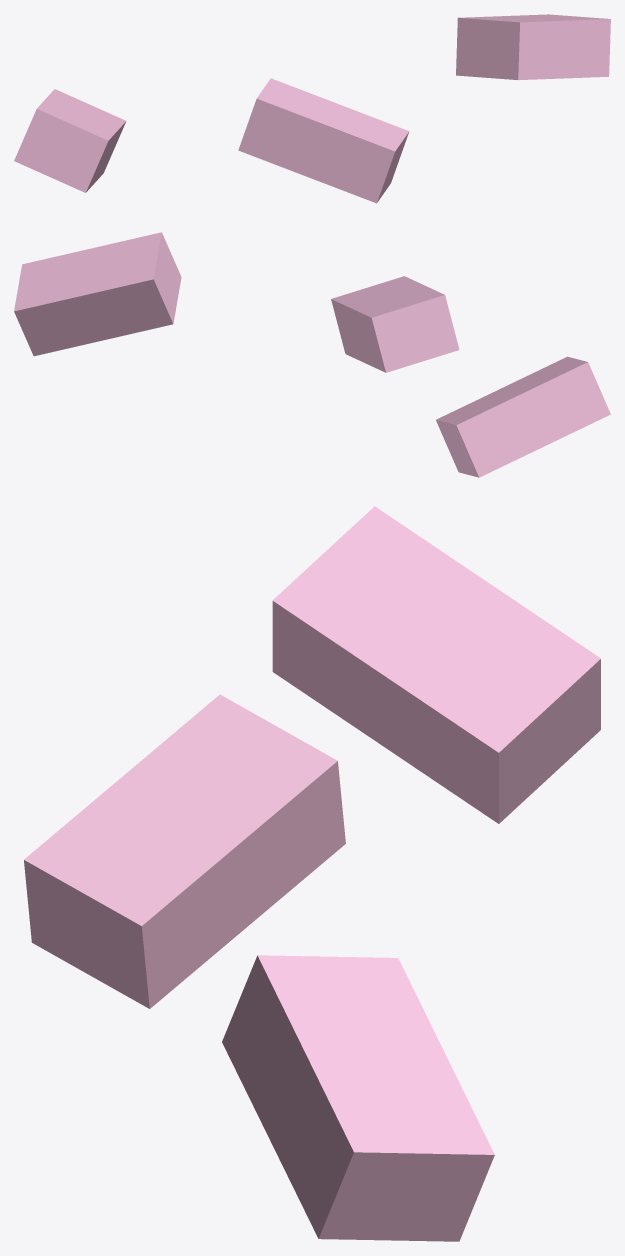
3 views of the same model, one above another, from view 1: azimuth 30°, elevation 25°; view 2: azimuth 150°, elevation 25°; view 3: azimuth 270°, elevation 25° (orthographic). The views are drawn at different scales.
Parts seen in each view (by area): view 1: Object23; view 2: Object23; view 3: Object23.
Boxes of the visible parts, box(x1,y1,x2,y2) form: Object23: box(14, 14, 610, 203); Object23: box(14, 232, 610, 477); Object23: box(24, 506, 600, 1241).
Size of the model in its own units: 608 by 109 by 257.
